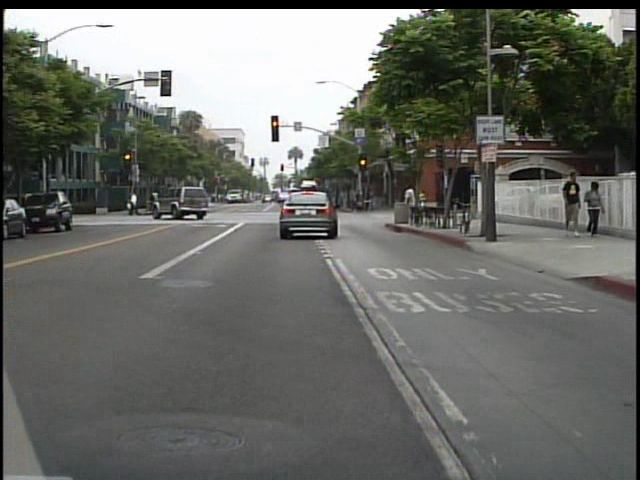person: (560, 165, 587, 239), (583, 178, 608, 243), (404, 179, 425, 226), (131, 187, 148, 220)
